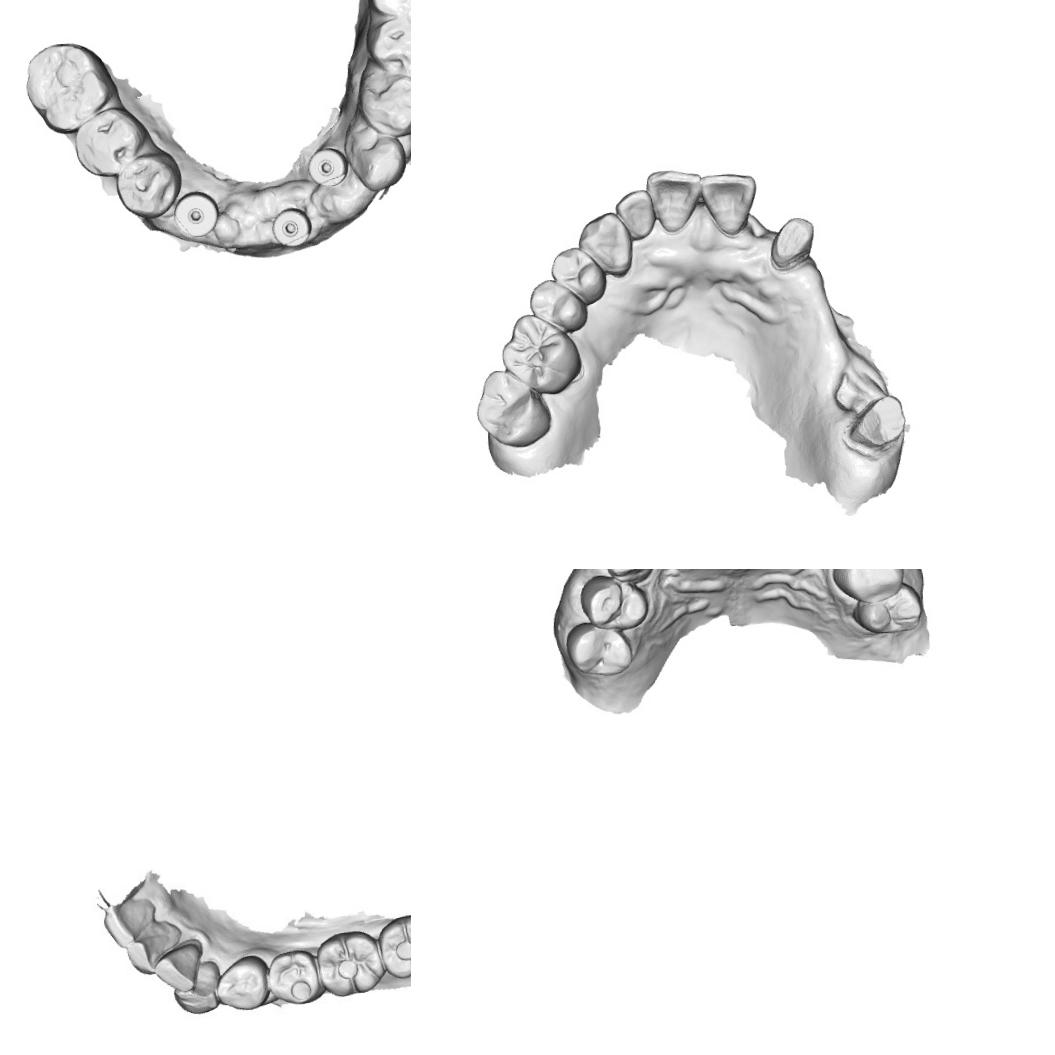canine: (344, 122, 409, 193), (576, 210, 632, 278), (602, 569, 660, 584)
crown: (840, 390, 908, 455), (766, 213, 818, 274)
implant: (171, 190, 220, 237), (270, 204, 314, 250), (306, 146, 350, 186)
incisor: (697, 168, 760, 240), (643, 167, 703, 235), (123, 918, 181, 977), (100, 894, 160, 950), (154, 936, 207, 989), (613, 187, 654, 241)
molar: (20, 38, 120, 135), (497, 311, 582, 396), (472, 365, 552, 450), (312, 924, 386, 1003), (375, 908, 411, 980)
premolar: (70, 102, 152, 179), (562, 617, 637, 679), (113, 151, 181, 217), (578, 570, 650, 632), (850, 579, 924, 638), (358, 69, 411, 139), (526, 276, 588, 333), (548, 246, 607, 305), (215, 955, 273, 1014), (266, 948, 323, 1007), (366, 13, 411, 80), (829, 569, 905, 606)
